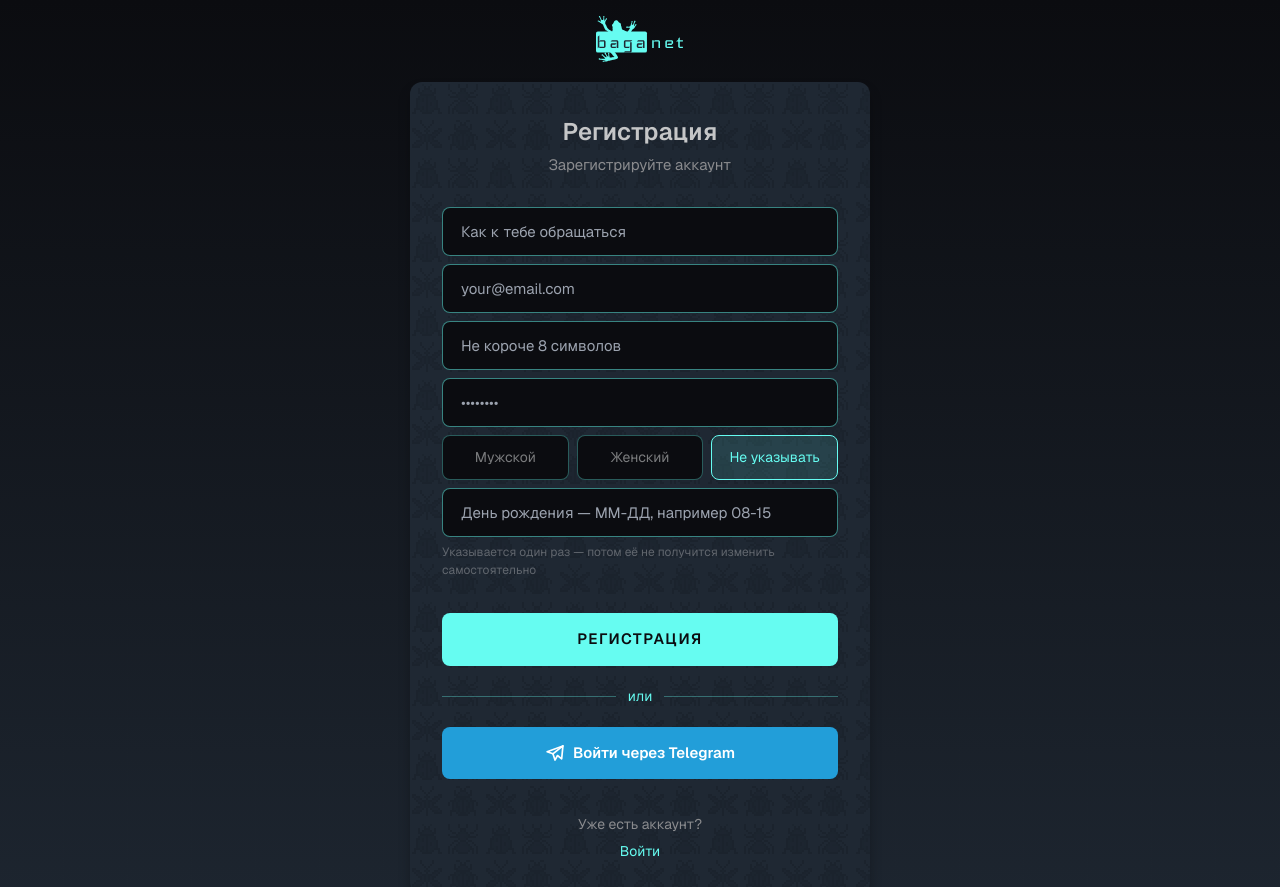
Test: RegisterPage validation, before anything reaches the server › refuses a password under 8 characters — the same floor the server enforces
Type "Новичок" into the field with placeholder "Как к тебе обращаться" at [640, 231], box [442,206,838,256]
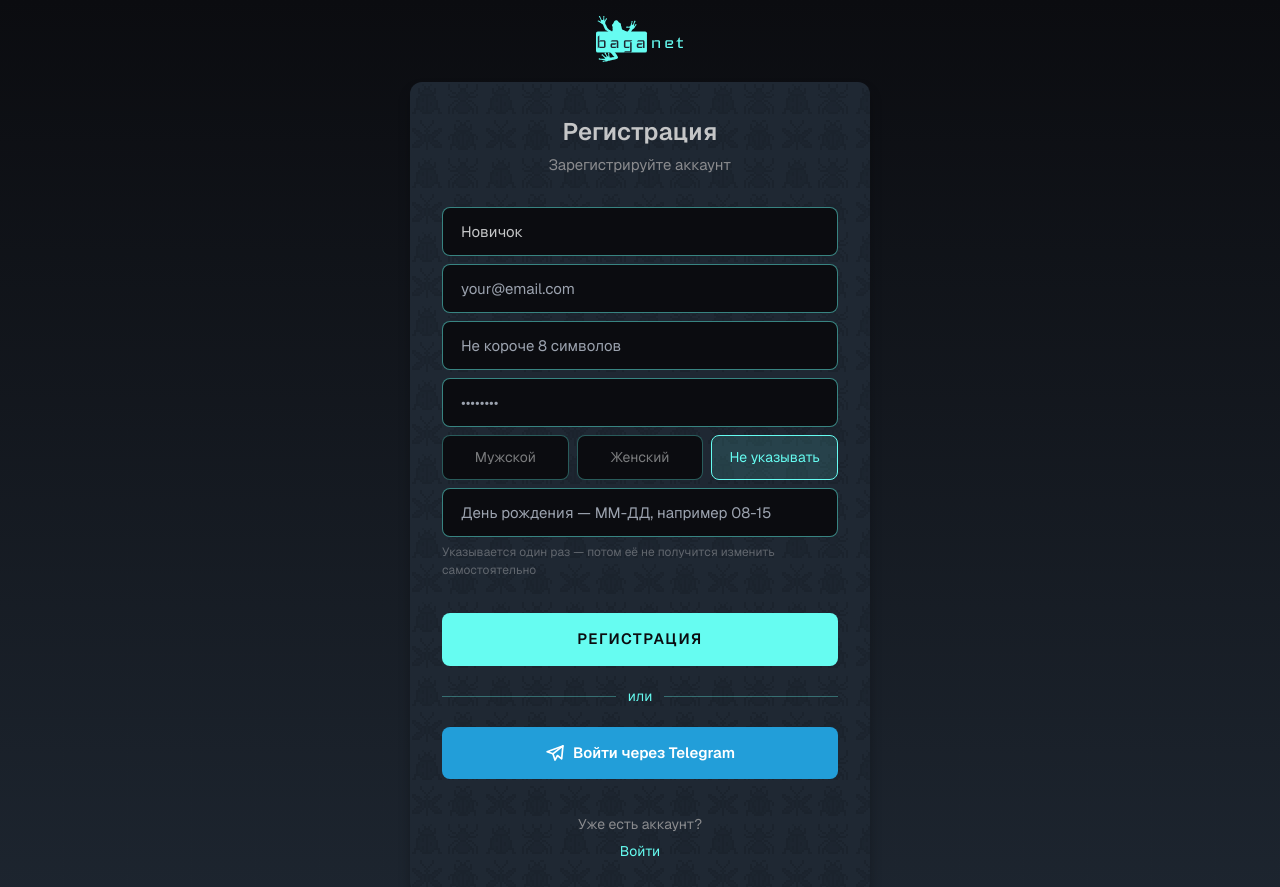
Type "new@qa.com" into the field with placeholder "your@email.com" at [640, 288], box [442,264,838,312]
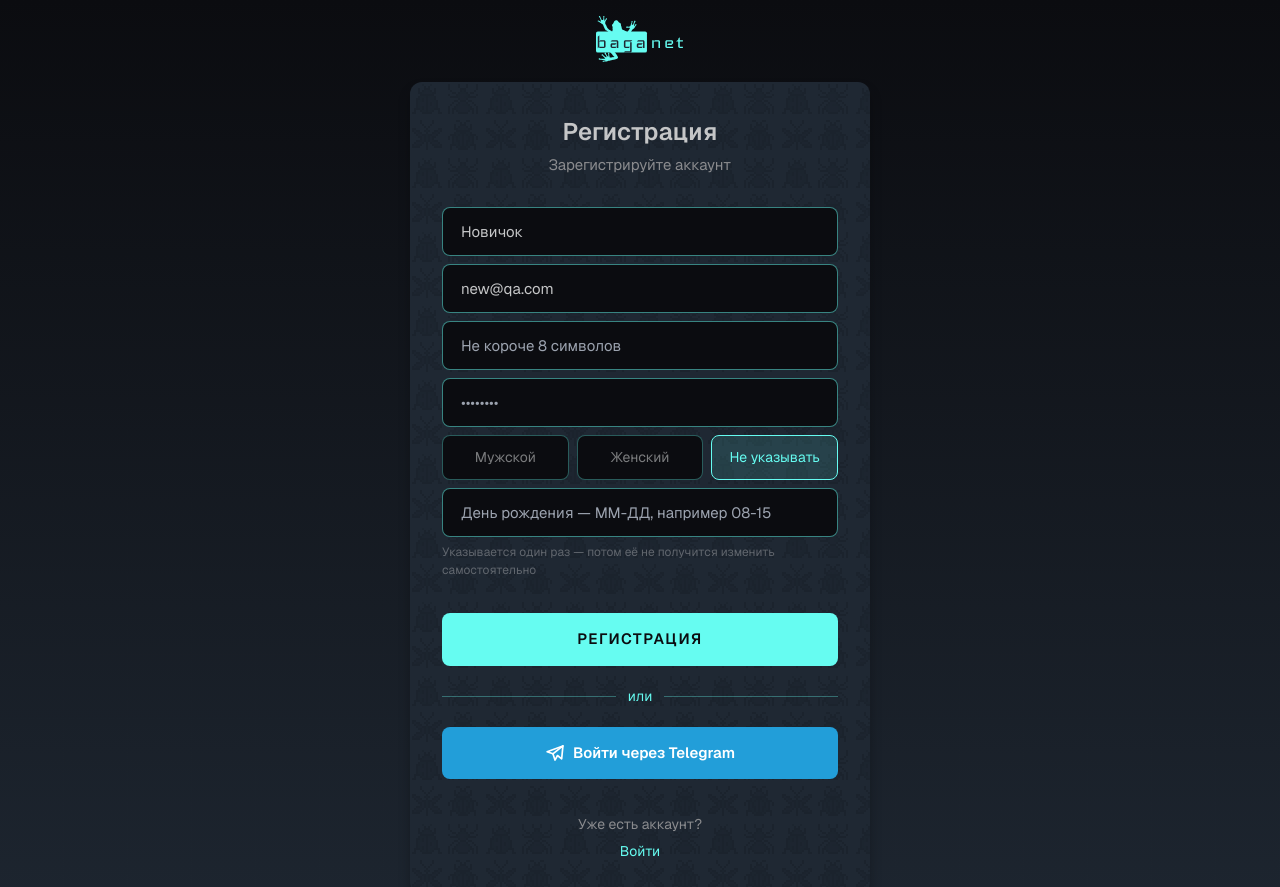
Type "short1" into the password field with placeholder "Не короче 8 символов" at [640, 345], box [442,320,838,370]
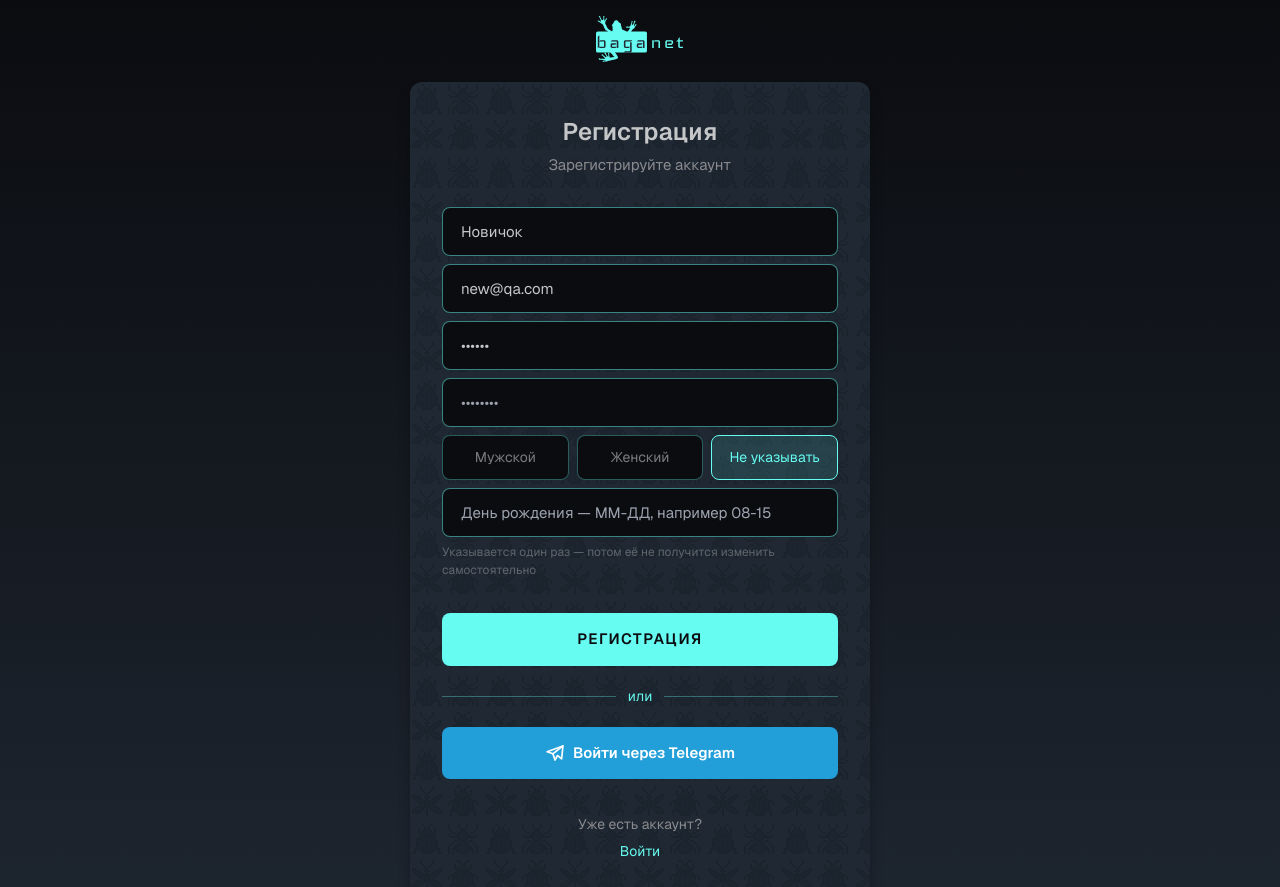
Type "short1" into the password field with placeholder "••••••••" at [640, 402], box [442,378,838,426]
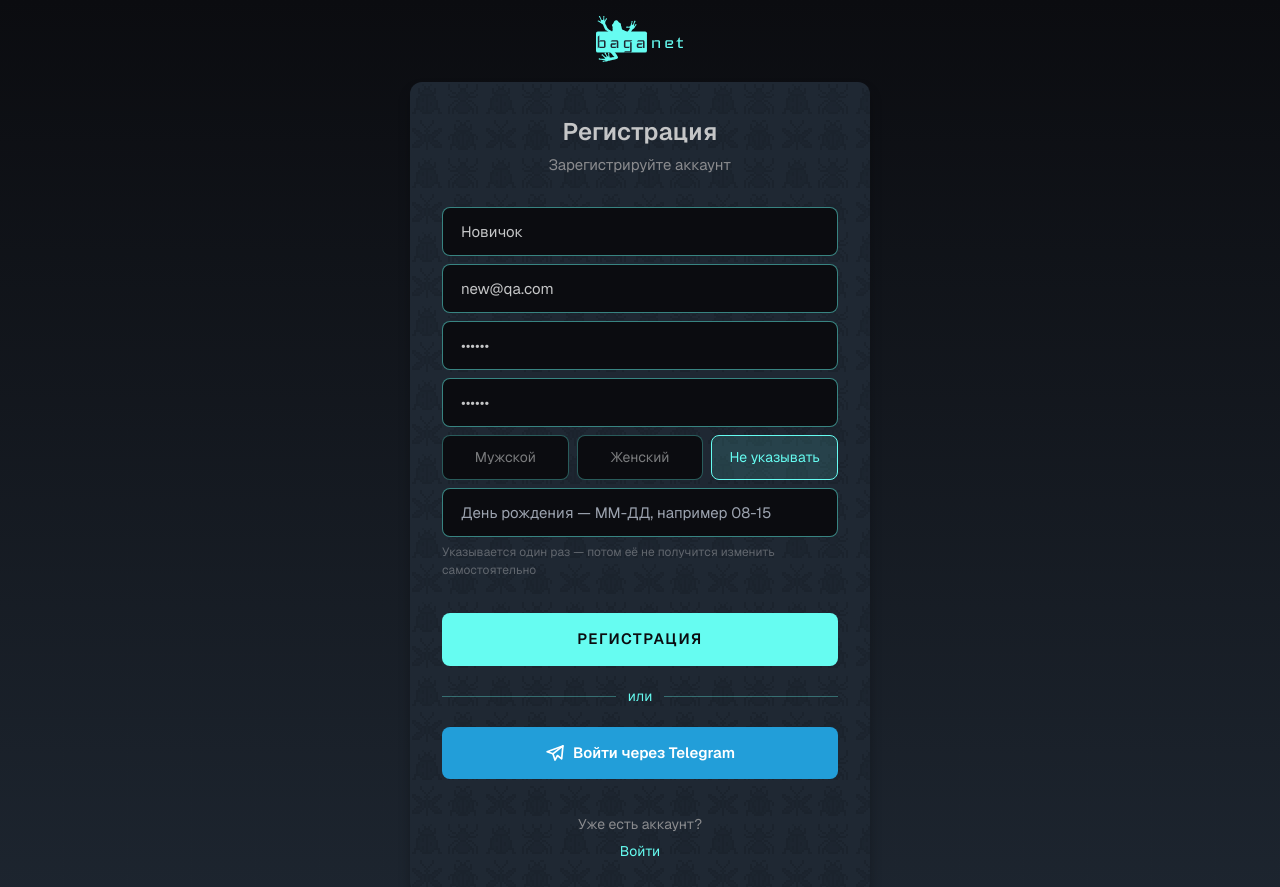
Click the button "Регистрация" at [640, 639], box [442,613,838,666]
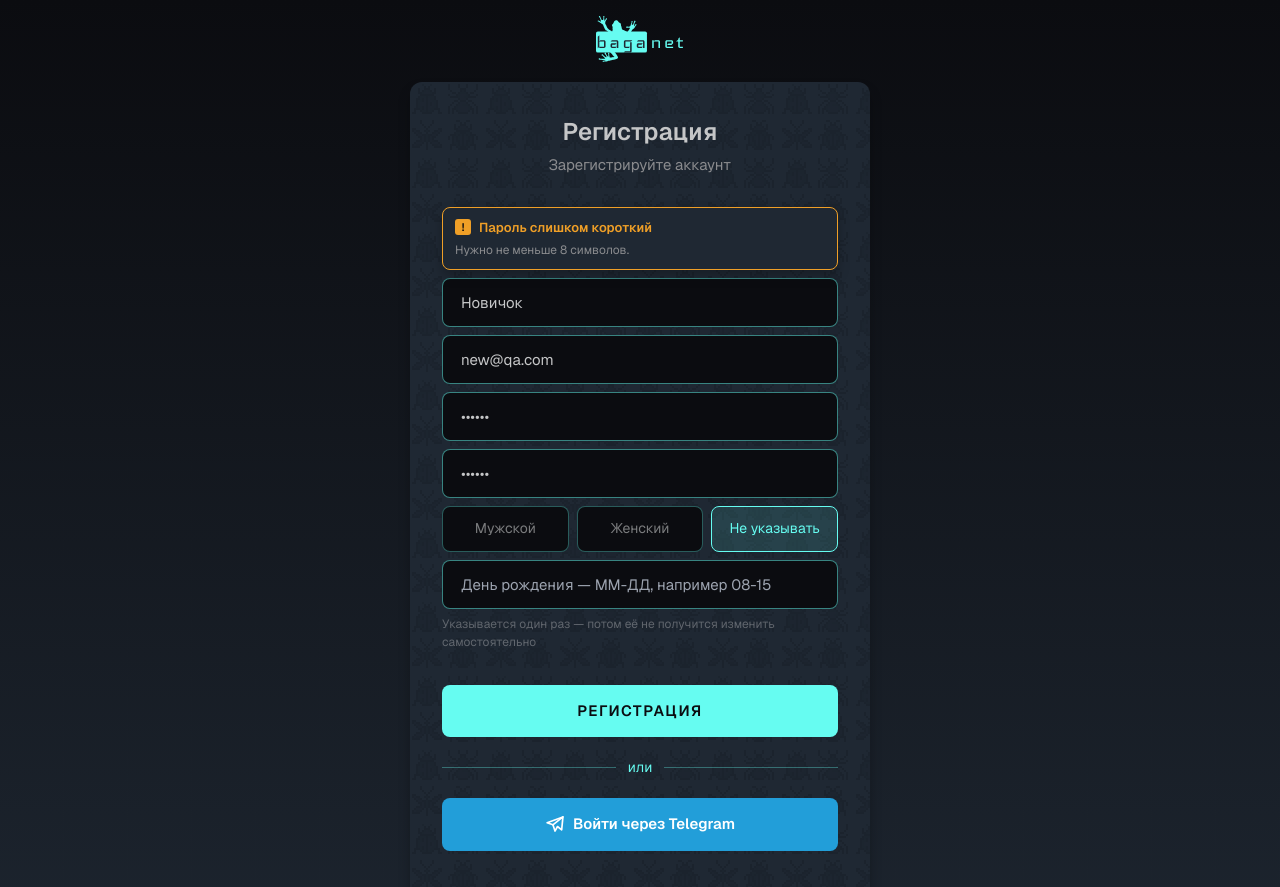
Check: the text "Пароль слишком короткий" is shown, box [479,218,652,236]
